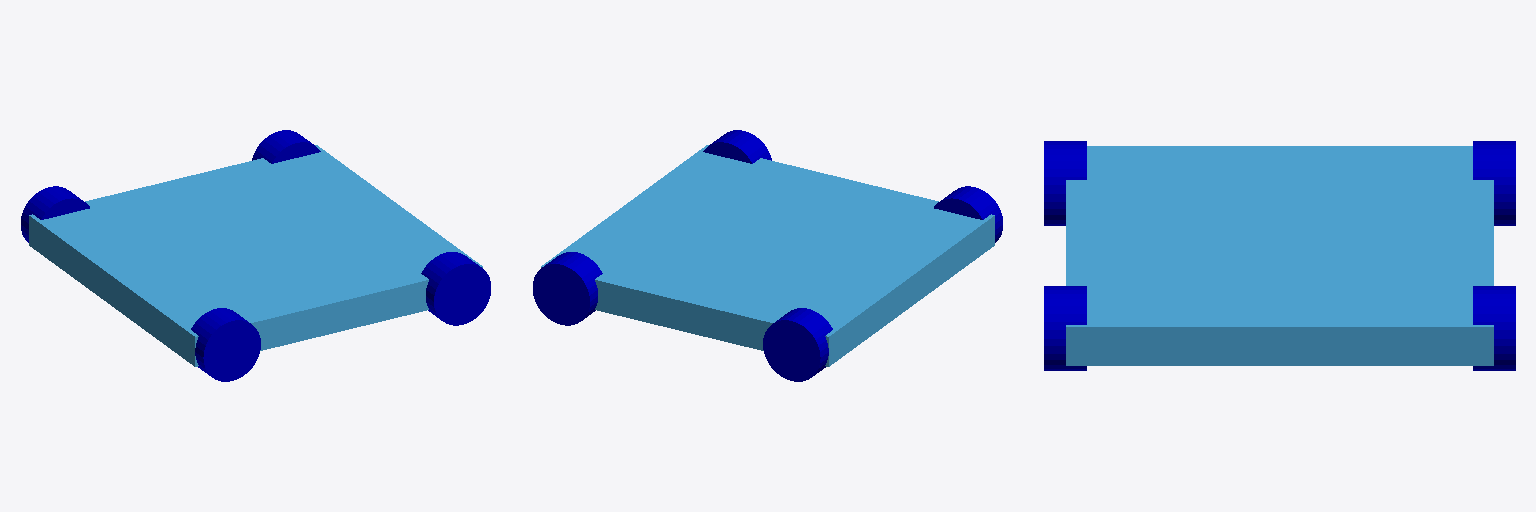
URDF robot description (basic_robot):
<?xml version="1.0" ?>
<!-- =================================================================================== -->
<!-- |    This document was autogenerated by xacro from myrobot.xacro                  | -->
<!-- |    EDITING THIS FILE BY HAND IS NOT RECOMMENDED                                 | -->
<!-- =================================================================================== -->
<robot name="basic_robot">
  <param command="xacro '[local-path]/nasa_ws/src/new_robot_urdf/urdf/myrobot.urdf.xacro'" name="robot_description"/>
  <!--colors-->
  <material name="blue">
    <color rgba=" 0 0 0.8 1"/>
  </material>
  <!--All Xacro Macros-->
  <!-- Dummy link to get rid of  base_link has an inertia specified in the URDF error -->
  <link name="dummy"/>
  <!-- Dummy joint to get rid of  base_link has an inertia specified in the URDF error -->
  <joint name="dummy_joint" type="fixed">
    <parent link="dummy"/>
    <child link="base_link"/>
  </joint>
  <link name="base_link">
    <visual>
      <origin xyz="0 0 0.1"/>
      <geometry>
        <box size="1.0 1.0 0.1"/>
      </geometry>
    </visual>
    <collision>
      <origin xyz="0 0 0.1"/>
      <geometry>
        <box size="1.0 1.0 0.1"/>
      </geometry>
    </collision>
    <inertial>
      <mass value="10"/>
      <inertia ixx="1.0" ixy="0.0" ixz="0.0" iyy="1.0" iyz="0.0" izz="1.0"/>
    </inertial>
  </link>
  <link name="right_front_wheel">
    <visual>
      <origin rpy="1.57075 0 0"/>
      <geometry>
        <cylinder length="0.1" radius="0.1"/>
      </geometry>
      <material name="blue"/>
    </visual>
    <collision>
      <origin rpy="1.57075 0 0"/>
      <geometry>
        <cylinder length="0.1" radius="0.1"/>
      </geometry>
    </collision>
    <inertial>
      <mass value="1"/>
      <inertia ixx="1.0" ixy="0.0" ixz="0.0" iyy="1.0" iyz="0.0" izz="1.0"/>
    </inertial>
  </link>
  <joint name="right_front_wheel_joint" type="continuous">
    <parent link="base_link"/>
    <child link="right_front_wheel"/>
    <axis xyz="0 1 0"/>
    <origin rpy="0 0 0 " xyz="0.40 0.5 0.1"/>
  </joint>
  <link name="left_front_wheel">
    <visual>
      <origin rpy="1.57075 0 0"/>
      <geometry>
        <cylinder length="0.1" radius="0.1"/>
      </geometry>
      <material name="blue"/>
    </visual>
    <collision>
      <origin rpy="1.57075 0 0"/>
      <geometry>
        <cylinder length="0.1" radius="0.1"/>
      </geometry>
    </collision>
    <inertial>
      <mass value="1"/>
      <inertia ixx="1.0" ixy="0.0" ixz="0.0" iyy="1.0" iyz="0.0" izz="1.0"/>
    </inertial>
  </link>
  <joint name="left_front_wheel_joint" type="continuous">
    <parent link="base_link"/>
    <child link="left_front_wheel"/>
    <axis xyz="0 1 0"/>
    <origin rpy="0 0 0" xyz="0.4 -0.5 0.1"/>
  </joint>
  <link name="right_back_wheel">
    <visual>
      <origin rpy="1.57075 0 0"/>
      <geometry>
        <cylinder length="0.1" radius="0.1"/>
      </geometry>
      <material name="blue"/>
    </visual>
    <collision>
      <origin rpy="1.57075 0 0"/>
      <geometry>
        <cylinder length="0.1" radius="0.1"/>
      </geometry>
    </collision>
    <inertial>
      <mass value="1"/>
      <inertia ixx="1.0" ixy="0.0" ixz="0.0" iyy="1.0" iyz="0.0" izz="1.0"/>
    </inertial>
  </link>
  <joint name="right_back_wheel_joint" type="continuous">
    <parent link="base_link"/>
    <child link="right_back_wheel"/>
    <axis xyz="0 1 0"/>
    <origin rpy="0 0 0" xyz="-0.4 0.5 0.1"/>
  </joint>
  <link name="left_back_wheel">
    <visual>
      <origin rpy="1.57075 0 0"/>
      <geometry>
        <cylinder length="0.1" radius="0.1"/>
      </geometry>
      <material name="blue"/>
    </visual>
    <collision>
      <origin rpy="1.57075 0 0"/>
      <geometry>
        <cylinder length="0.1" radius="0.1"/>
      </geometry>
    </collision>
    <inertial>
      <mass value="1"/>
      <inertia ixx="1.0" ixy="0.0" ixz="0.0" iyy="1.0" iyz="0.0" izz="1.0"/>
    </inertial>
  </link>
  <joint name="left_back_wheel_joint" type="continuous">
    <parent link="base_link"/>
    <child link="left_back_wheel"/>
    <!-- axis on which it will move -->
    <axis xyz="0 1 0"/>
    <origin rpy="0 0 0" xyz="-0.4 -0.5 0.1"/>
  </joint>
  <!-- Gazebo plugin for ROS Control -->
  <gazebo>
    <plugin filename="libgazebo_ros_control.so" name="gazebo_ros_control">
      <robotNamespace>/</robotNamespace>
    </plugin>
  </gazebo>
</robot>

--- What the picture shows (computed from the rendered views, not written in the file) ---
Views: 3 orthographic renders of the robot side by side, from view 1: azimuth 30°, elevation 25°; view 2: azimuth 150°, elevation 25°; view 3: azimuth 270°, elevation 25°.
Model basic_robot with 6 links and 5 joints (4 continuous, 1 fixed), rooted at dummy, posed all joints at 0.
Links seen in each view (by area): view 1: base_link, left_back_wheel, left_front_wheel, right_back_wheel, right_front_wheel; view 2: base_link, right_back_wheel, right_front_wheel, left_back_wheel, left_front_wheel; view 3: base_link, right_front_wheel, left_front_wheel, right_back_wheel, left_back_wheel.
Boxes of the visible links, box(x1,y1,x2,y2) form: base_link: box(29, 145, 482, 366); left_back_wheel: box(191, 308, 260, 381); left_front_wheel: box(421, 252, 490, 325); right_back_wheel: box(21, 186, 89, 242); right_front_wheel: box(252, 130, 320, 163); base_link: box(541, 145, 994, 366); right_back_wheel: box(763, 308, 832, 381); right_front_wheel: box(533, 252, 602, 325); left_back_wheel: box(934, 186, 1002, 242); left_front_wheel: box(703, 130, 771, 163); base_link: box(1066, 146, 1493, 365); right_front_wheel: box(1473, 286, 1515, 370); left_front_wheel: box(1044, 286, 1086, 370); right_back_wheel: box(1473, 141, 1515, 225); left_back_wheel: box(1044, 141, 1086, 225).
Bounding box of the posed robot: 1 × 1.1 × 0.2 m (x, y, z).
Geometry: primitives only (box / cylinder / sphere), no mesh files.